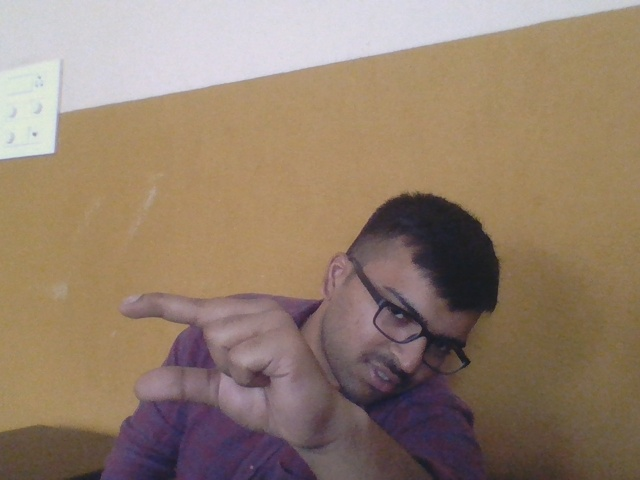No: (112, 267, 349, 457)
